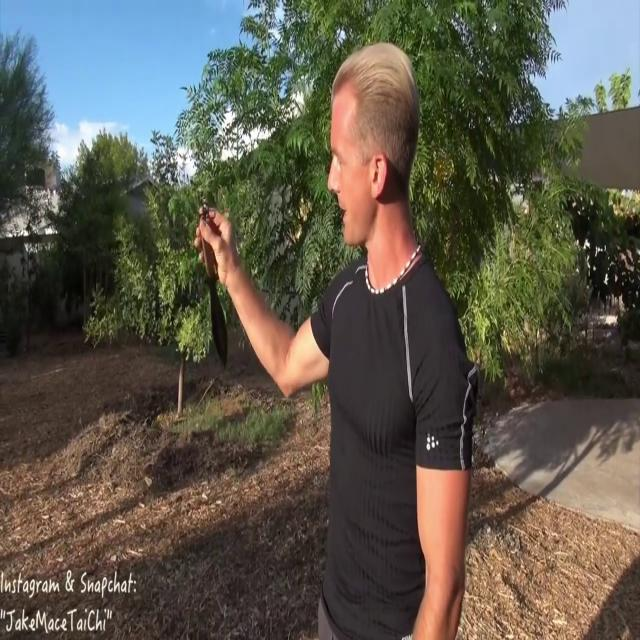knife: (194, 200, 235, 366)
